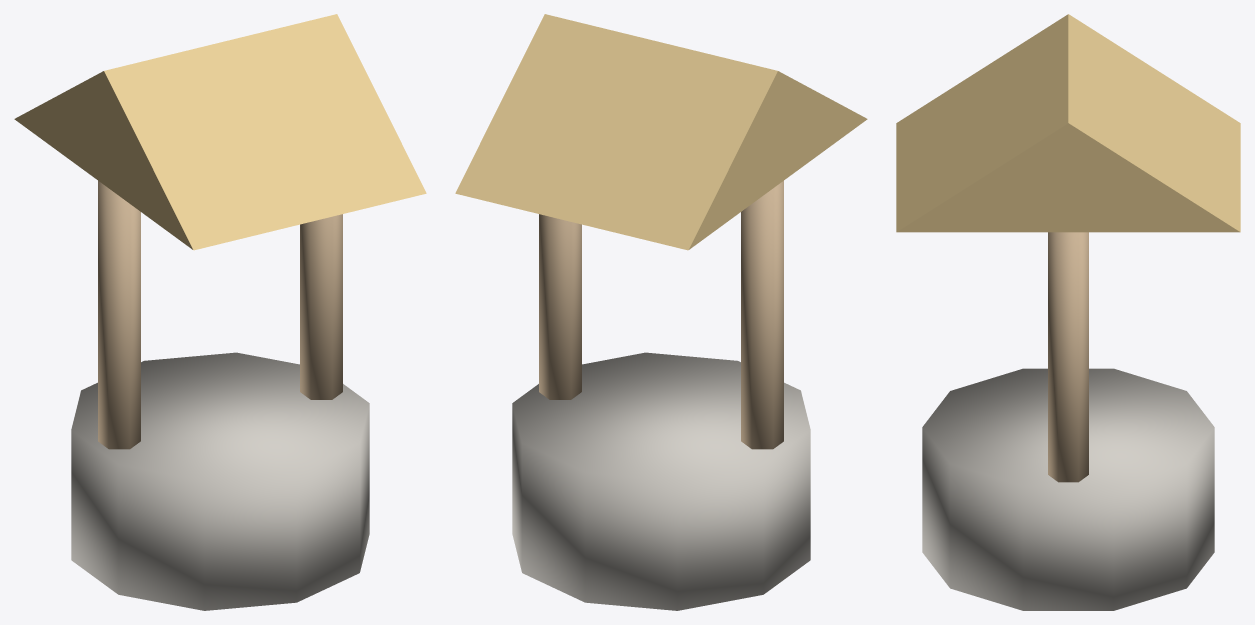
The model's file is well.glb.
3 views of the same model, side by side, from view 1: azimuth 30°, elevation 25°; view 2: azimuth 150°, elevation 25°; view 3: azimuth 270°, elevation 25° (orthographic). The views are drawn at different scales.
Visible parts, largest first — view 1: well_stone, well_roof, well_wood; view 2: well_stone, well_roof, well_wood; view 3: well_stone, well_roof, well_wood.
Boxes of the visible parts, x1,y1,x2,y2 form: well_stone: (71, 352, 369, 610); well_roof: (14, 14, 426, 250); well_wood: (98, 181, 342, 449); well_stone: (512, 352, 810, 610); well_roof: (455, 14, 867, 250); well_wood: (539, 181, 783, 449); well_stone: (922, 368, 1214, 610); well_roof: (896, 14, 1240, 232); well_wood: (1048, 232, 1088, 482).
Size of the model in its own units: 0.5389 by 1.03 by 0.6667.
